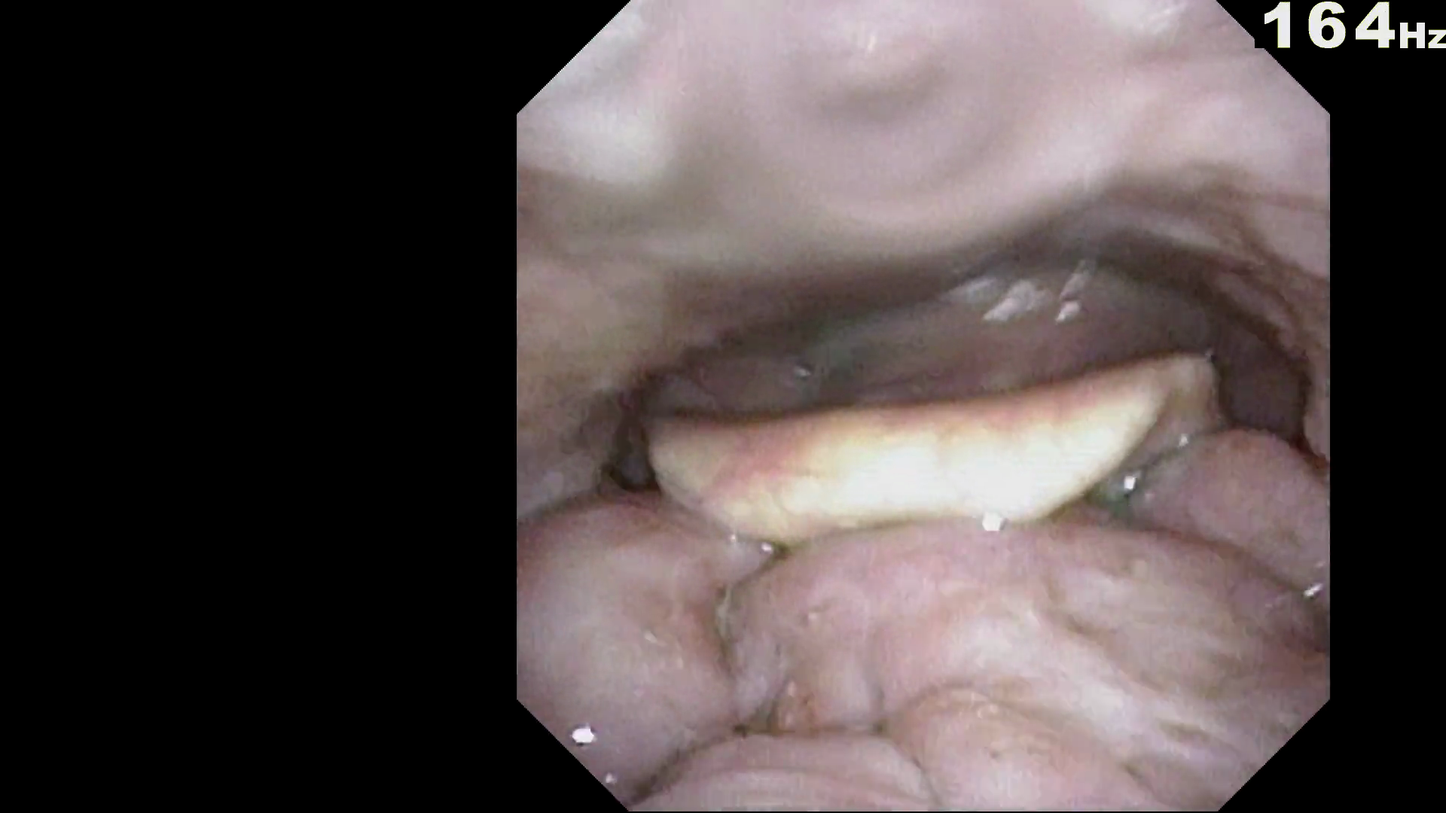epiglottis: (676, 430, 1227, 574)
